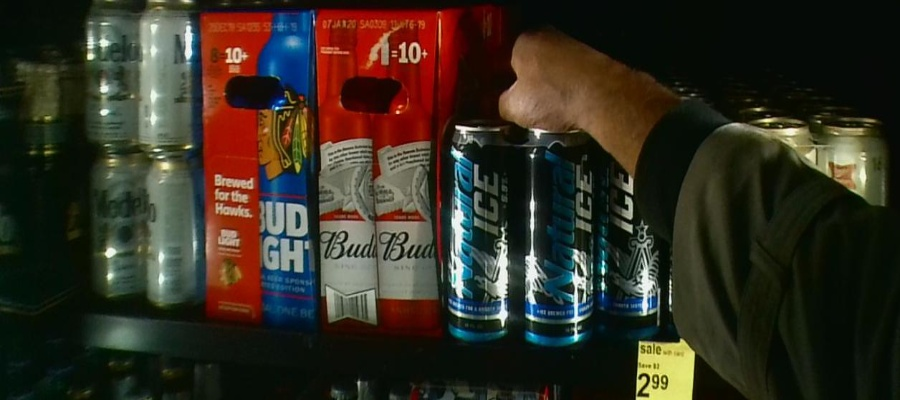bottle: (313, 8, 446, 331), (81, 1, 203, 312), (198, 8, 316, 325), (458, 129, 591, 347), (600, 234, 663, 331), (828, 122, 888, 190)
